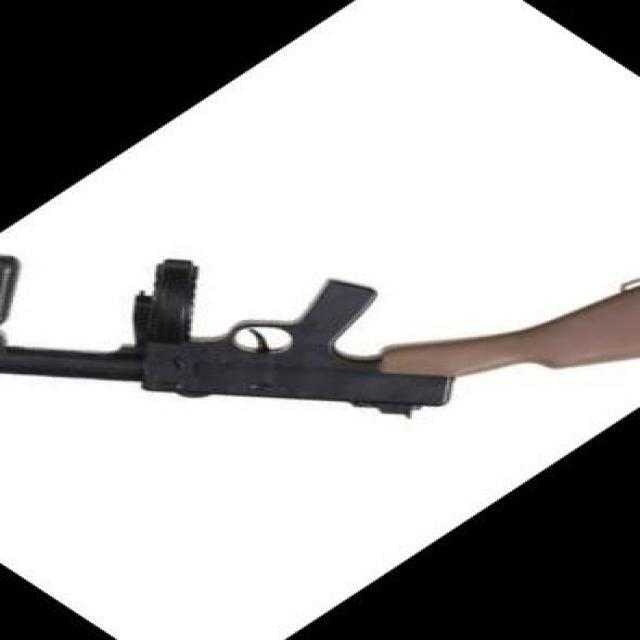weapon: (0, 252, 640, 422)
